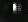person: (15, 3, 22, 15)
